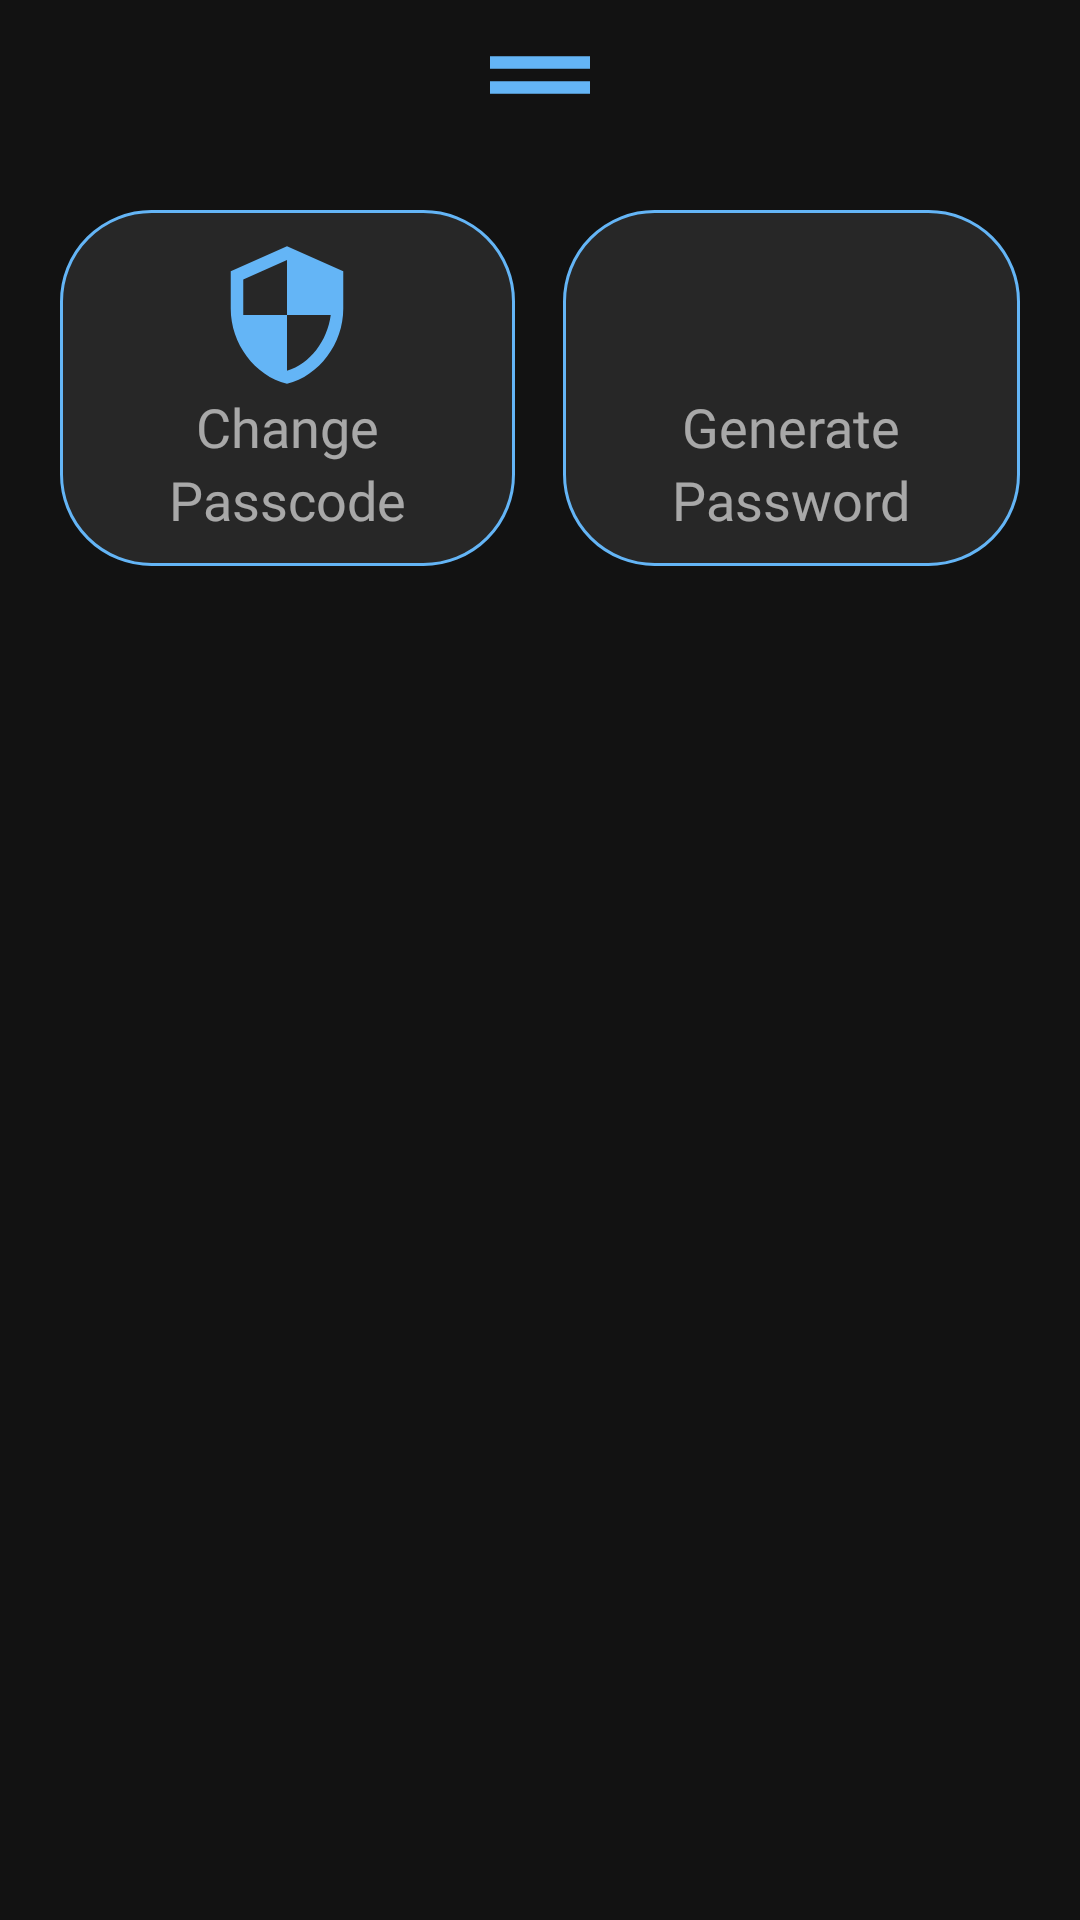

Where icons sit on this 1080*1920 app screen, as (x1, y1, x2, y2):
drag handle: (490, 56, 590, 94)
security: (230, 246, 344, 384)
